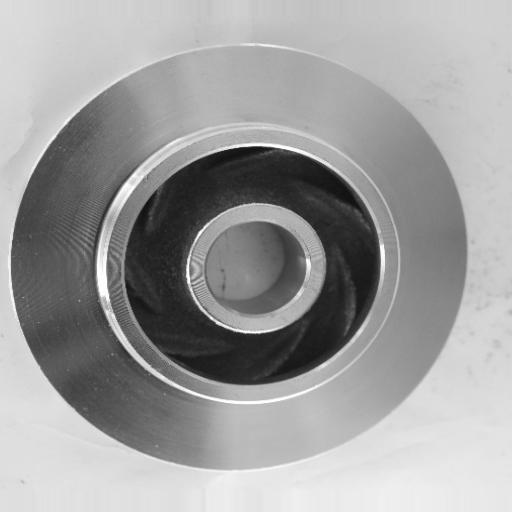polished_casting: (9, 43, 469, 473)
